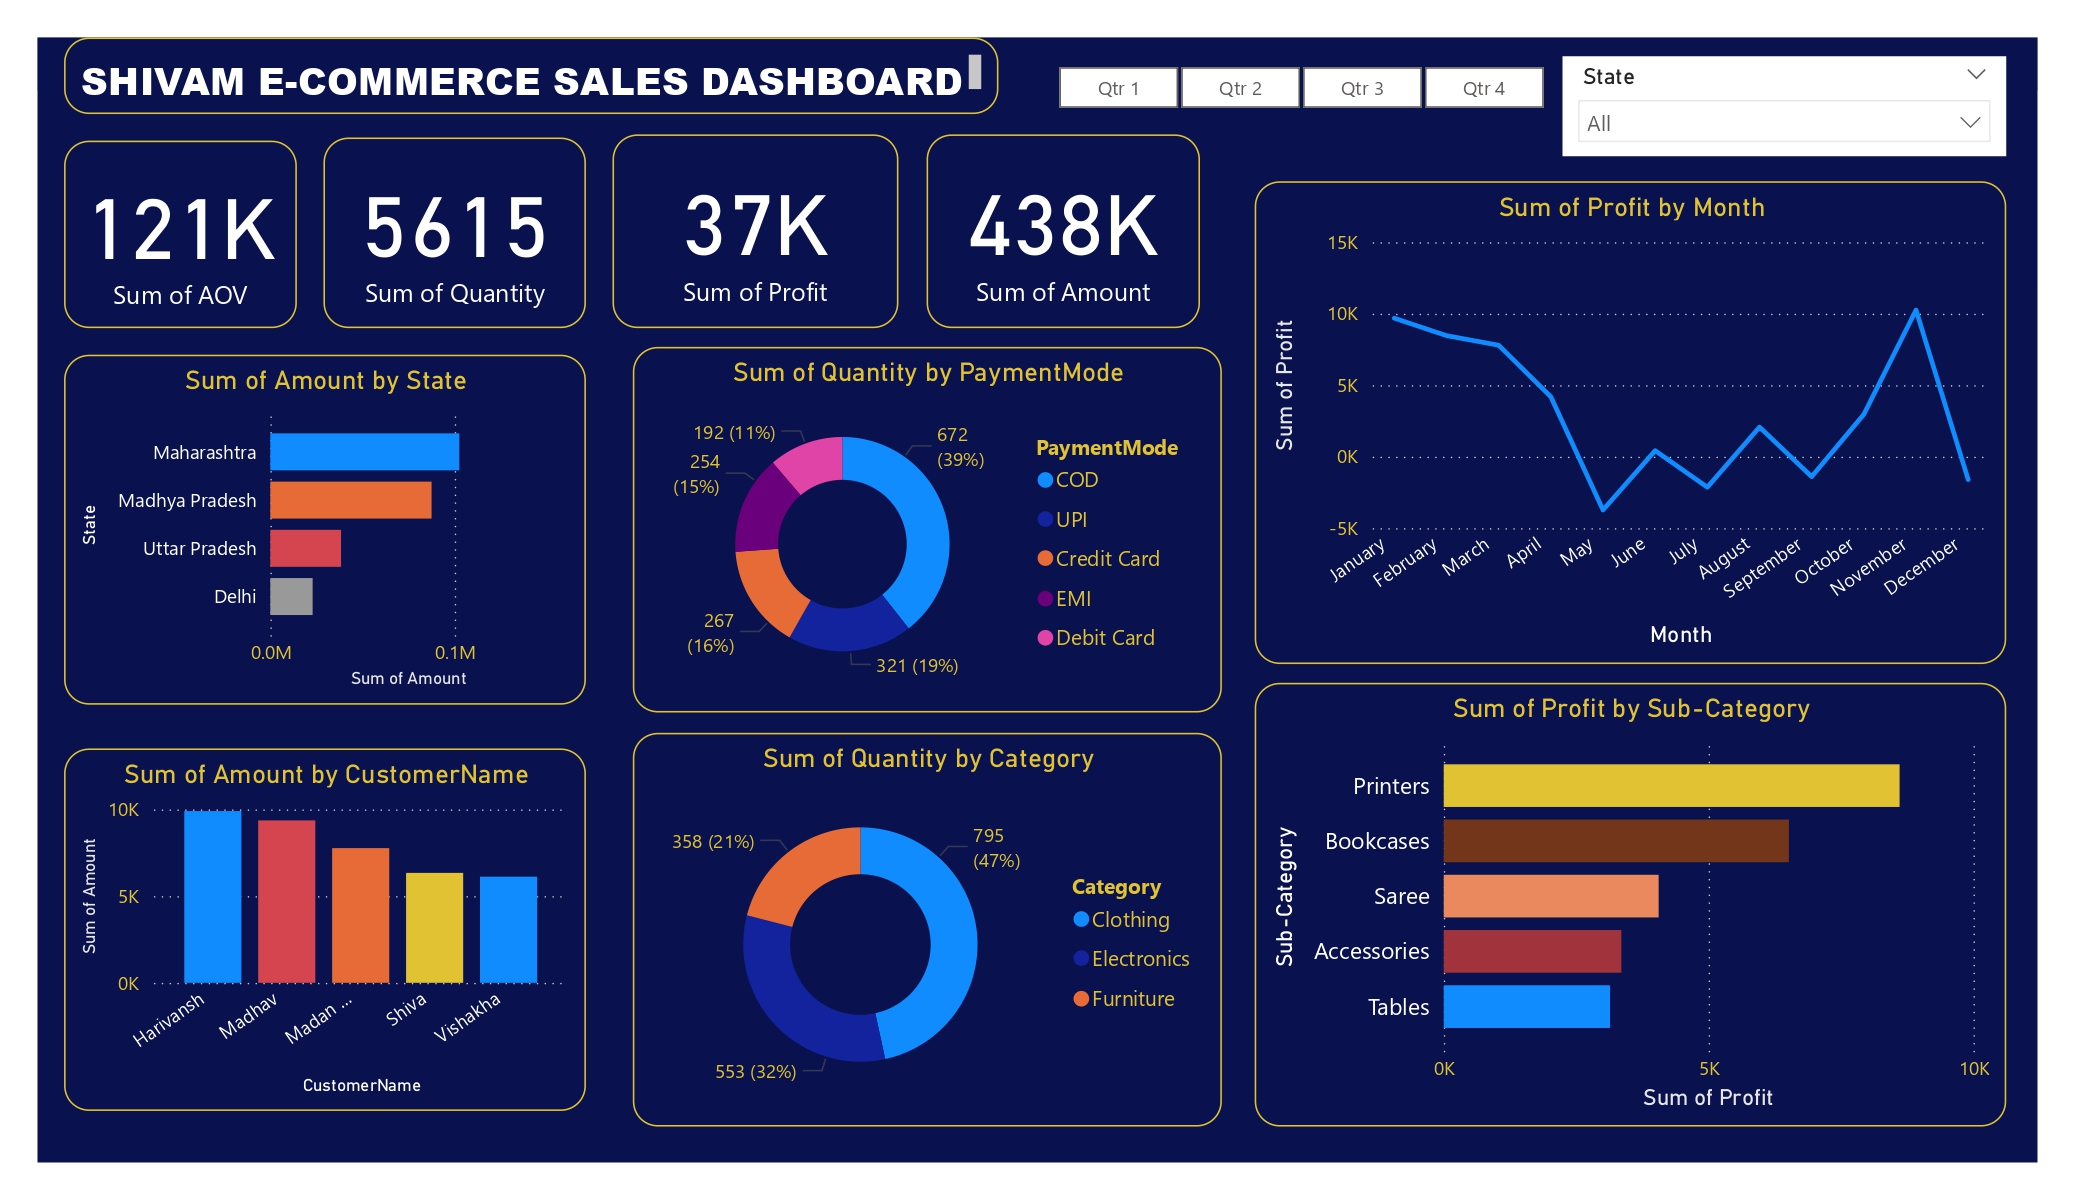

The dashboard page shown, as its layout file describes it:
{"tool":"powerbi","page":{"name":"Page 1","canvas":[1280,720],"ordinal":0},"visuals":[{"type":"textbox","box":[16.8,0,598,48.7],"z":0},{"type":"lineChart","fields":{"Category":["Orders.Order Date.Variation.Date Hierarchy.Month"],"Y":["Sum(Details.Profit)"]},"box":[779.4,92.4,480.4,309.1],"z":1000},{"type":"barChart","fields":{"Category":["Details.Sub-Category"],"Y":["Sum(Details.Profit)"]},"box":[779.4,413.2,480.4,283.9],"z":2000},{"type":"donutChart","fields":{"Category":["Details.Category"],"Y":["Sum(Details.Quantity)"]},"box":[381.3,445.1,376.3,252],"z":3000},{"type":"donutChart","fields":{"Y":["Sum(Details.Quantity)"],"Category":["Details.PaymentMode"]},"box":[381.3,198.2,376.3,233.5],"z":4000},{"type":"card","fields":{"Values":["Sum(Details.Amount)"]},"box":[569.4,62.2,174.7,124.3],"z":5000},{"type":"card","fields":{"Values":["Sum(Details.AOV)"]},"box":[16.8,65.5,149.5,120.9],"z":6000},{"type":"card","fields":{"Values":["Sum(Details.Quantity)"]},"box":[183.1,63.8,168,122.6],"z":7000},{"type":"card","fields":{"Values":["Sum(Details.Profit)"]},"box":[367.9,62.2,183.1,124.3],"z":8000},{"type":"barChart","fields":{"Category":["Orders.State"],"Y":["Sum(Details.Amount)"]},"box":[16.8,203.3,334.3,223.4],"z":9000},{"type":"columnChart","fields":{"Category":["Orders.CustomerName"],"Y":["Sum(Details.Amount)"]},"box":[16.8,455.2,334.3,231.8],"z":10000},{"type":"slicer","fields":{"Values":["Orders.Order Date.Variation.Date Hierarchy.Quarter"]},"box":[628.2,11.8,359.5,37],"z":11000},{"type":"slicer","fields":{"Values":["Orders.State"]},"box":[976,11.8,283.9,63.8],"z":11001}]}

Visuals, with their boxes on the page's 1280x720 design canvas (x1, y1, x2, y2). These are canvas units, not pixel positions in the 2075x1200 screenshot, which may show the page scaled, cropped or inside an application window:
textbox: box(17, 0, 615, 49)
lineChart - Orders.Order Date.Variation.Date Hierarchy.Month x Sum(Details.Profit): box(779, 92, 1260, 402)
barChart - Details.Sub-Category x Sum(Details.Profit): box(779, 413, 1260, 697)
donutChart - Details.Category x Sum(Details.Quantity): box(381, 445, 758, 697)
donutChart - Sum(Details.Quantity) x Details.PaymentMode: box(381, 198, 758, 432)
card - Sum(Details.Amount): box(569, 62, 744, 186)
card - Sum(Details.AOV): box(17, 66, 166, 186)
card - Sum(Details.Quantity): box(183, 64, 351, 186)
card - Sum(Details.Profit): box(368, 62, 551, 186)
barChart - Orders.State x Sum(Details.Amount): box(17, 203, 351, 427)
columnChart - Orders.CustomerName x Sum(Details.Amount): box(17, 455, 351, 687)
slicer - Orders.Order Date.Variation.Date Hierarchy.Quarter: box(628, 12, 988, 49)
slicer - Orders.State: box(976, 12, 1260, 76)
